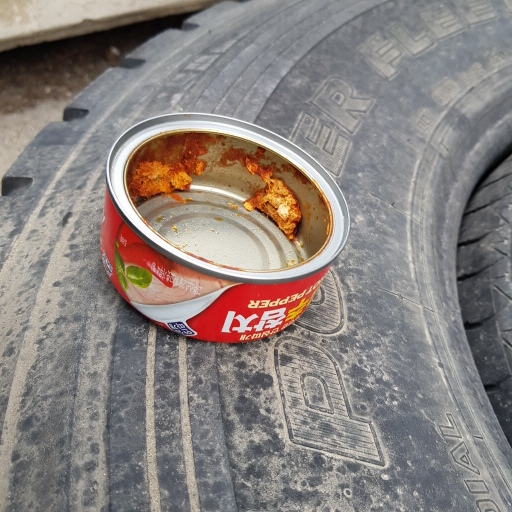Metal_1: (99, 110, 352, 348)
